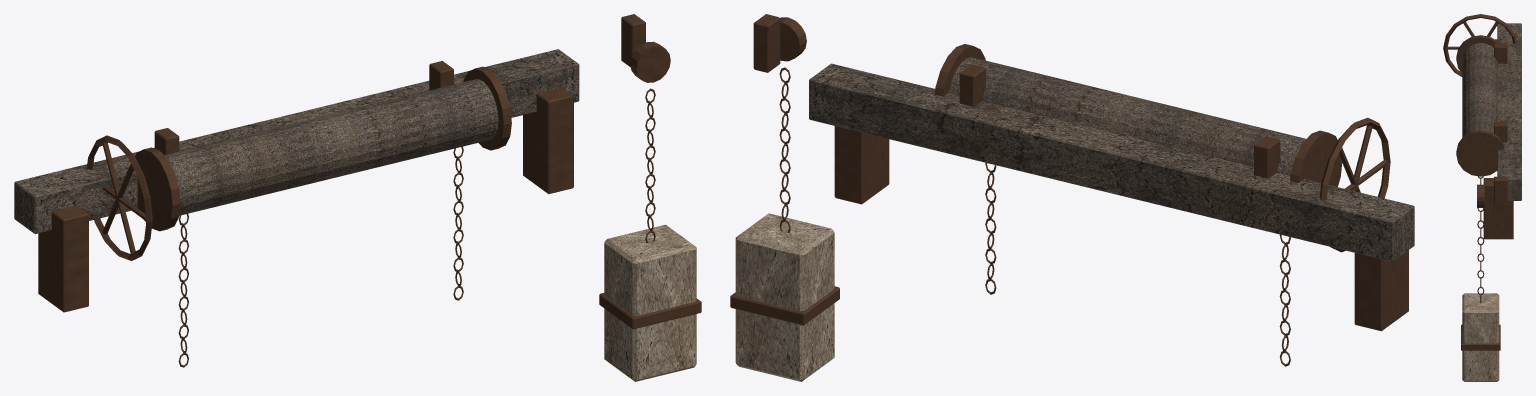
The model's file is gate-machinery.glb.
The picture shows the model from 3 angles, left to right: view 1: azimuth 30°, elevation 25°; view 2: azimuth 150°, elevation 25°; view 3: azimuth 270°, elevation 25°; orthographic projection. The views are drawn at different scales.
Visible parts, largest first — view 1: Drum, Counterweight, Frame, WallBracket, PulleyBracket, Pulley, ChainWeight, ChainRight, ChainLeft; view 2: Frame, Drum, Counterweight, WallBracket, PulleyBracket, Pulley, ChainWeight, ChainRight, ChainLeft; view 3: Drum, Frame, Counterweight, WallBracket, PulleyBracket, ChainWeight, Pulley.
Boxes of the visible parts, x1,y1,x2,y2 form: Drum: (86, 66, 511, 260); Counterweight: (599, 224, 701, 381); Frame: (14, 49, 579, 233); WallBracket: (38, 87, 573, 312); PulleyBracket: (154, 14, 645, 154); Pulley: (630, 41, 670, 82); ChainWeight: (645, 88, 655, 242); ChainRight: (453, 146, 463, 300); ChainLeft: (178, 213, 188, 367); Frame: (809, 63, 1414, 261); Drum: (934, 44, 1390, 252); Counterweight: (730, 213, 839, 381); WallBracket: (834, 126, 1408, 331); PulleyBracket: (753, 14, 1280, 178); Pulley: (780, 17, 806, 61); ChainWeight: (779, 67, 790, 232); ChainRight: (985, 163, 996, 294); ChainLeft: (1279, 234, 1290, 366); Drum: (1443, 14, 1517, 176); Frame: (1497, 23, 1521, 200); Counterweight: (1461, 293, 1500, 381); WallBracket: (1483, 39, 1513, 239); PulleyBracket: (1494, 43, 1507, 206); ChainWeight: (1477, 212, 1484, 302); Pulley: (1477, 184, 1484, 207).
Size of the model in its own units: 3.15 by 1.68 by 0.576.
Materials: 1 (1 with a texture image).
